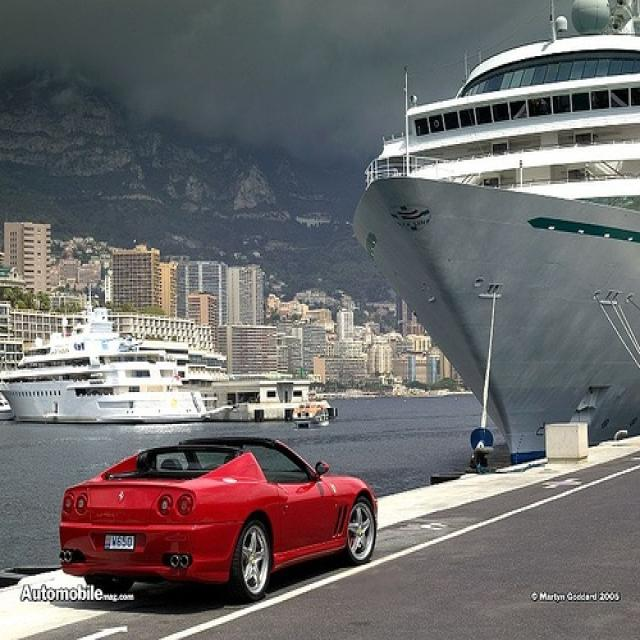boat: (353, 1, 640, 467), (1, 320, 210, 419)
car: (60, 436, 377, 604)
